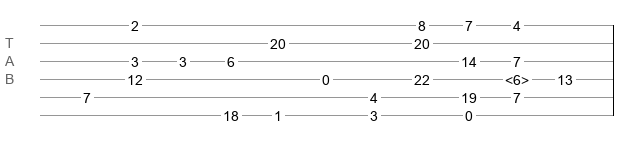0: (322, 72, 330, 82), (465, 108, 473, 118)
1: (274, 108, 282, 118)
12: (127, 72, 143, 82)
13: (557, 72, 573, 82)
14: (461, 54, 477, 64)
18: (223, 108, 239, 118)
19: (461, 90, 477, 100)
2: (131, 18, 139, 28)
20: (270, 36, 286, 46), (414, 36, 430, 46)
22: (414, 72, 430, 82)
3: (131, 54, 139, 64), (179, 54, 187, 64), (370, 108, 378, 118)
4: (370, 90, 378, 100), (513, 18, 521, 28)
6: (227, 54, 235, 64)
7: (83, 90, 91, 100), (465, 18, 473, 28), (513, 90, 521, 100), (513, 54, 521, 64)
8: (418, 18, 426, 28)
harmonic: (505, 72, 529, 82)
